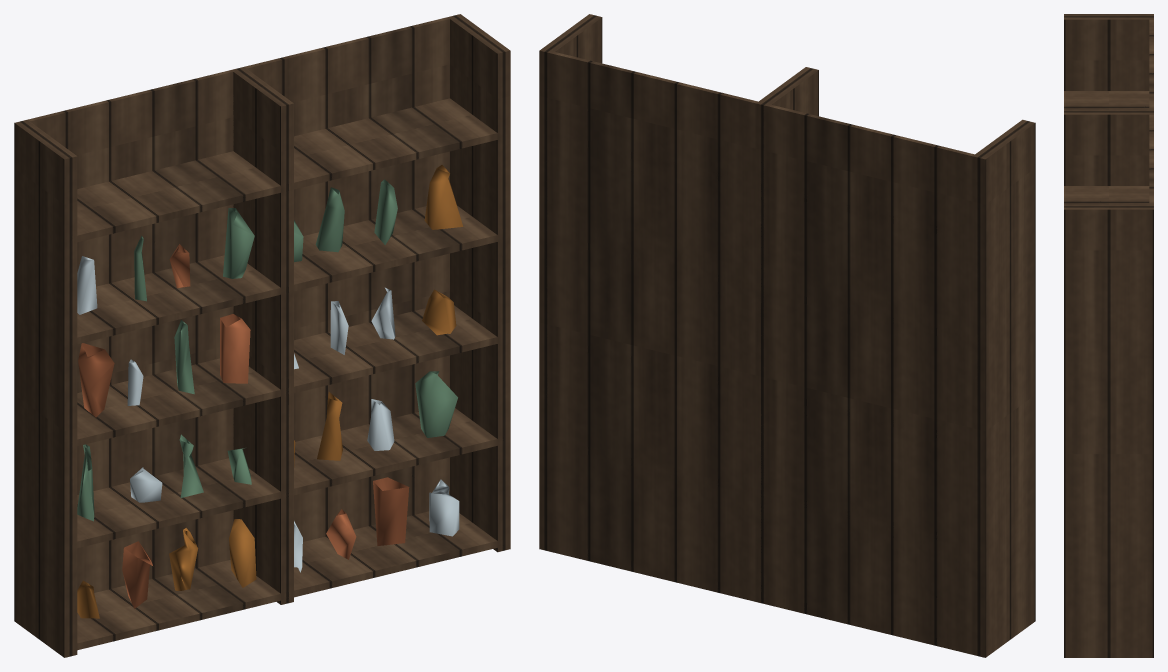
File: Shelf_Apothecary_1_LOD1.gltf
3 renders of one model, left to right at view 1: azimuth 30°, elevation 25°; view 2: azimuth 150°, elevation 25°; view 3: azimuth 270°, elevation 25°, orthographic. The views are drawn at different scales.
Visible parts, largest first — view 1: Shelf_Apothecary_1_LOD1; view 2: Shelf_Apothecary_1_LOD1; view 3: Shelf_Apothecary_1_LOD1.
Part boxes in pixels (bbox=[...]): Shelf_Apothecary_1_LOD1: bbox=[14, 14, 510, 657]; Shelf_Apothecary_1_LOD1: bbox=[539, 14, 1035, 657]; Shelf_Apothecary_1_LOD1: bbox=[1064, 14, 1153, 657].
Bounding box in the file's own units: 2.06 × 2.2 × 0.4.
Materials: 5 (5 with a texture image).
